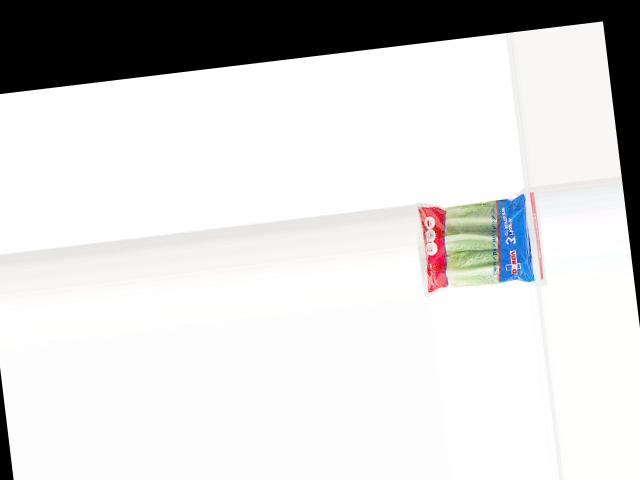lettuce: (412, 191, 537, 295)
